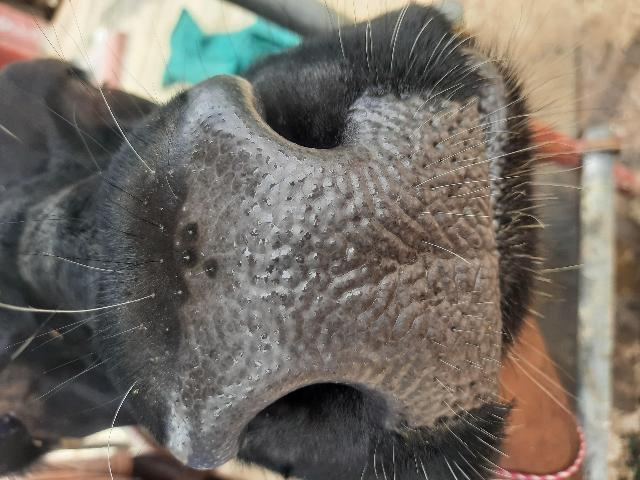Muzzle: (197, 158, 489, 369)
